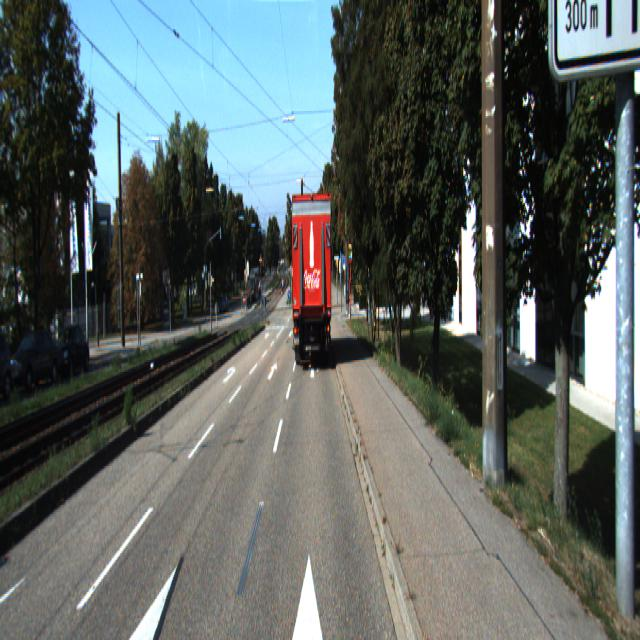Car: (288, 186, 334, 369), (8, 330, 64, 392), (50, 322, 90, 378)
